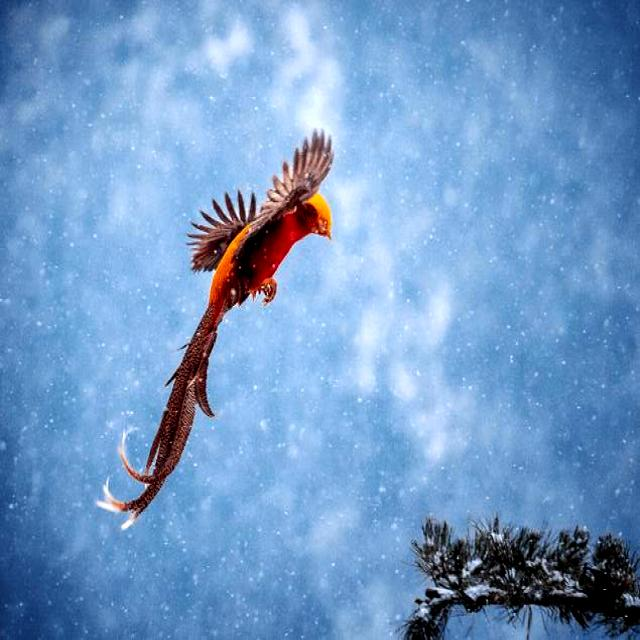Chrysolophus pictus feather: (95, 302, 220, 529)
